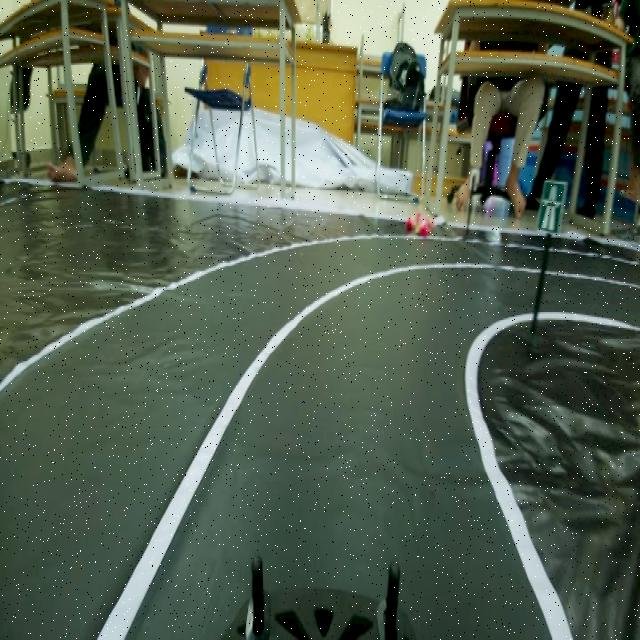highway_entry: (536, 173, 571, 239)
